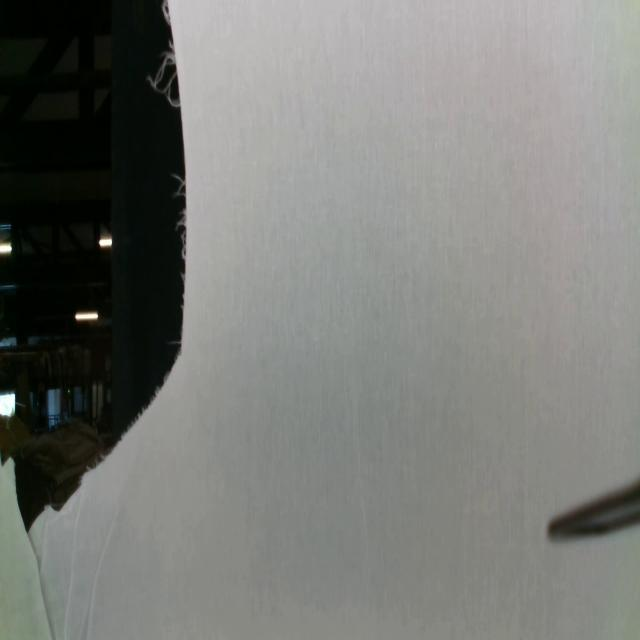hole: (0, 0, 188, 538)
